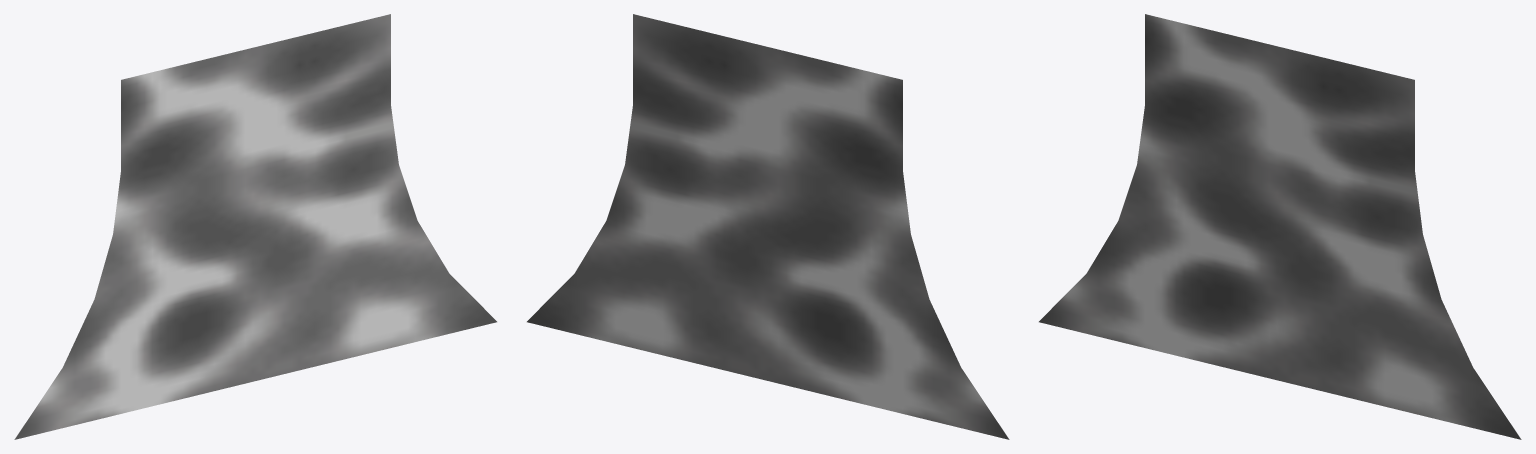
File: meng.fbx
3 views of the same model, side by side, from view 1: azimuth 30°, elevation 25°; view 2: azimuth 150°, elevation 25°; view 3: azimuth 330°, elevation 25° (orthographic).
Visible parts, largest first — view 1: meng; view 2: meng; view 3: meng.
Part boxes in pixels (x1=…): meng: x1=14, y1=14, x2=496, y2=439; meng: x1=527, y1=14, x2=1009, y2=439; meng: x1=1039, y1=14, x2=1521, y2=439.
Bounding box in the file's own units: 1390 × 918 × 0.00021.
